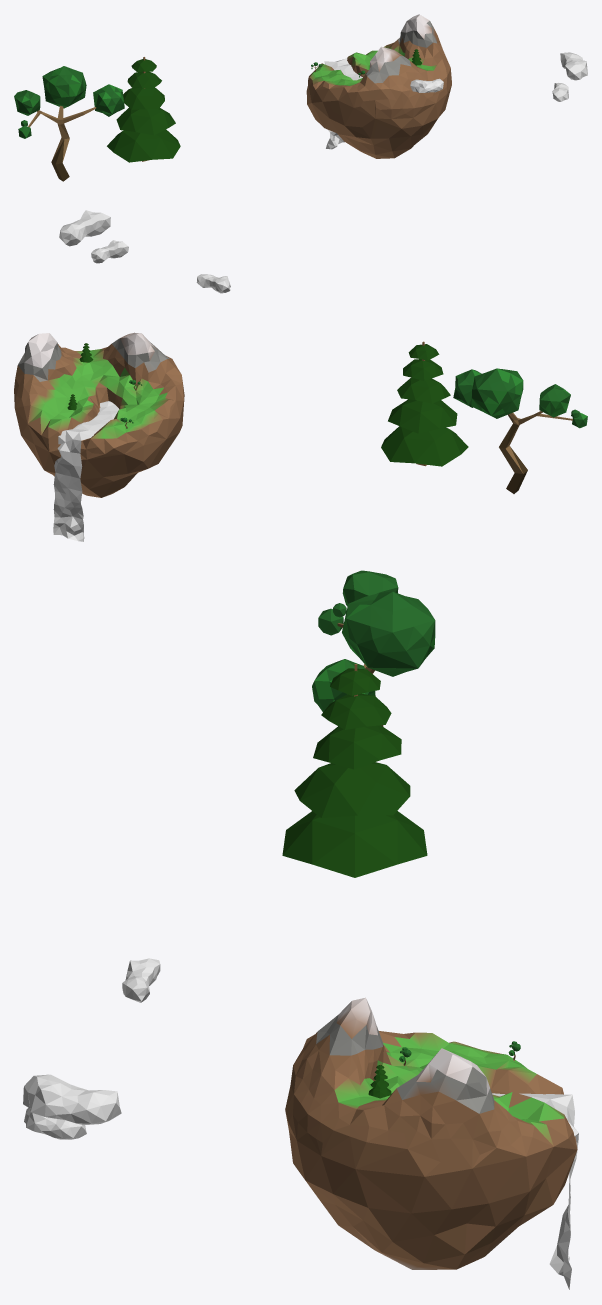
Rendered from Plattform1.fbx.
3 renders of one model, top to bottom at view 1: azimuth 30°, elevation 25°; view 2: azimuth 150°, elevation 25°; view 3: azimuth 270°, elevation 25°, orthographic. The views are drawn at different scales.
Visible parts, largest first — view 1: World, PaneTree, Tree, Icosphere, Water, Icosphere.002, Icosphere.001; view 2: World, PaneTree, Tree, Water, Icosphere, Icosphere.001, Icosphere.002; view 3: World, PaneTree, Tree, Icosphere, Water, Icosphere.002, Icosphere.001.
Part boxes in pixels (<box>): World: <box>306,14,451,158</box>; PaneTree: <box>107,57,180,162</box>; Tree: <box>14,66,124,181</box>; Icosphere: <box>560,52,587,80</box>; Water: <box>324,58,362,149</box>; Icosphere.002: <box>410,78,443,92</box>; Icosphere.001: <box>552,83,568,101</box>; World: <box>14,332,184,497</box>; PaneTree: <box>381,341,468,466</box>; Tree: <box>453,368,587,493</box>; Water: <box>53,401,119,541</box>; Icosphere: <box>59,210,110,246</box>; Icosphere.001: <box>91,240,128,263</box>; Icosphere.002: <box>196,274,230,293</box>; World: <box>285,997,577,1269</box>; PaneTree: <box>282,664,427,877</box>; Tree: <box>312,570,435,726</box>; Icosphere: <box>23,1074,121,1125</box>; Water: <box>492,1093,578,1289</box>; Icosphere.002: <box>122,958,160,1002</box>; Icosphere.001: <box>24,1107,86,1139</box>.
Bounding box in the file's own units: 7795 × 2822 × 3734.
